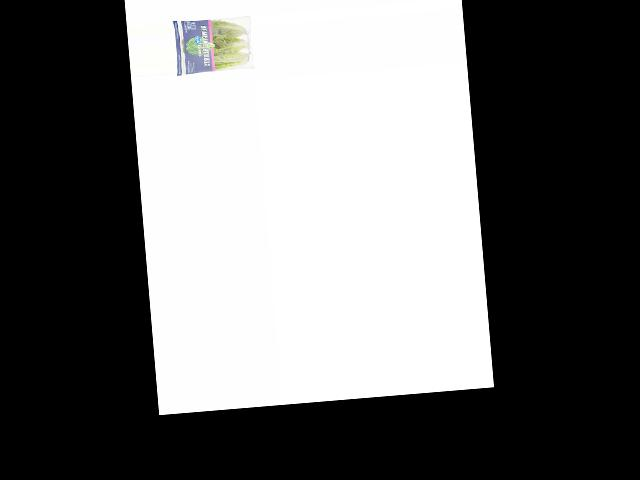lettuce: (174, 12, 252, 78)
